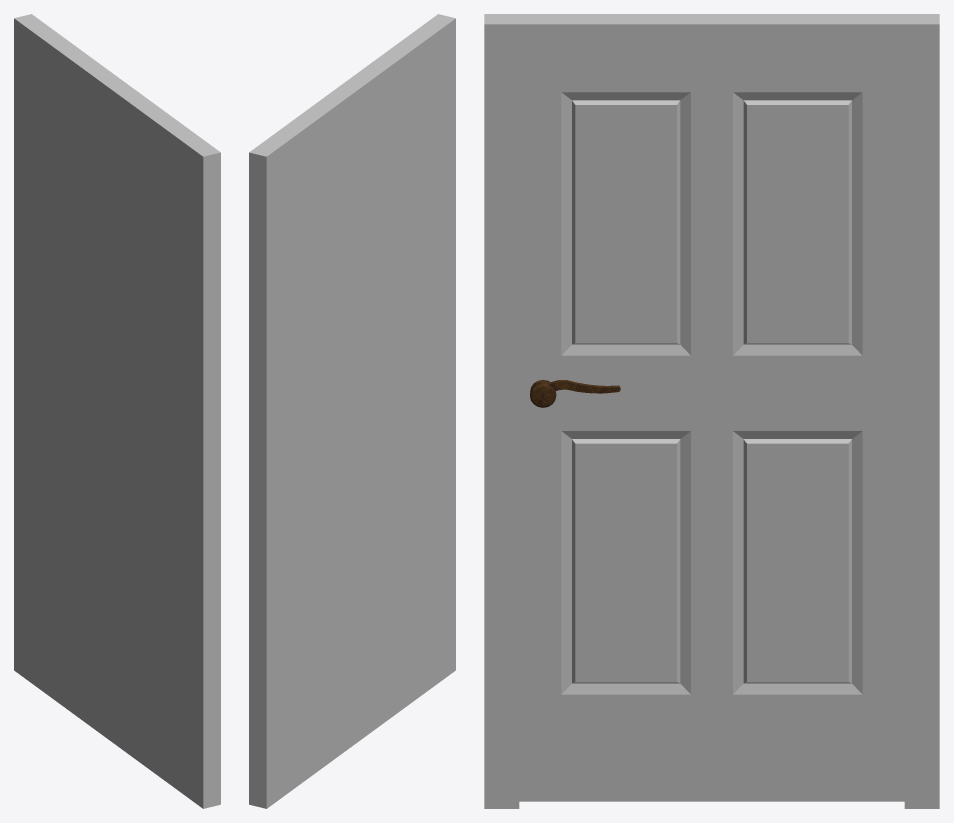
Rendered from OldDoor.fbx.
3 views of the same model, side by side, from view 1: azimuth 30°, elevation 25°; view 2: azimuth 150°, elevation 25°; view 3: azimuth 270°, elevation 25° (orthographic). The views are drawn at different scales.
Parts seen in each view (by area): view 1: OldDoor; view 2: OldDoor; view 3: OldDoor.
Part boxes in pixels (x1,y1,x2,y2): OldDoor: [14, 14, 220, 808]; OldDoor: [249, 14, 455, 808]; OldDoor: [484, 14, 939, 808].
Size of the model in its own units: 7 by 247 by 130.
